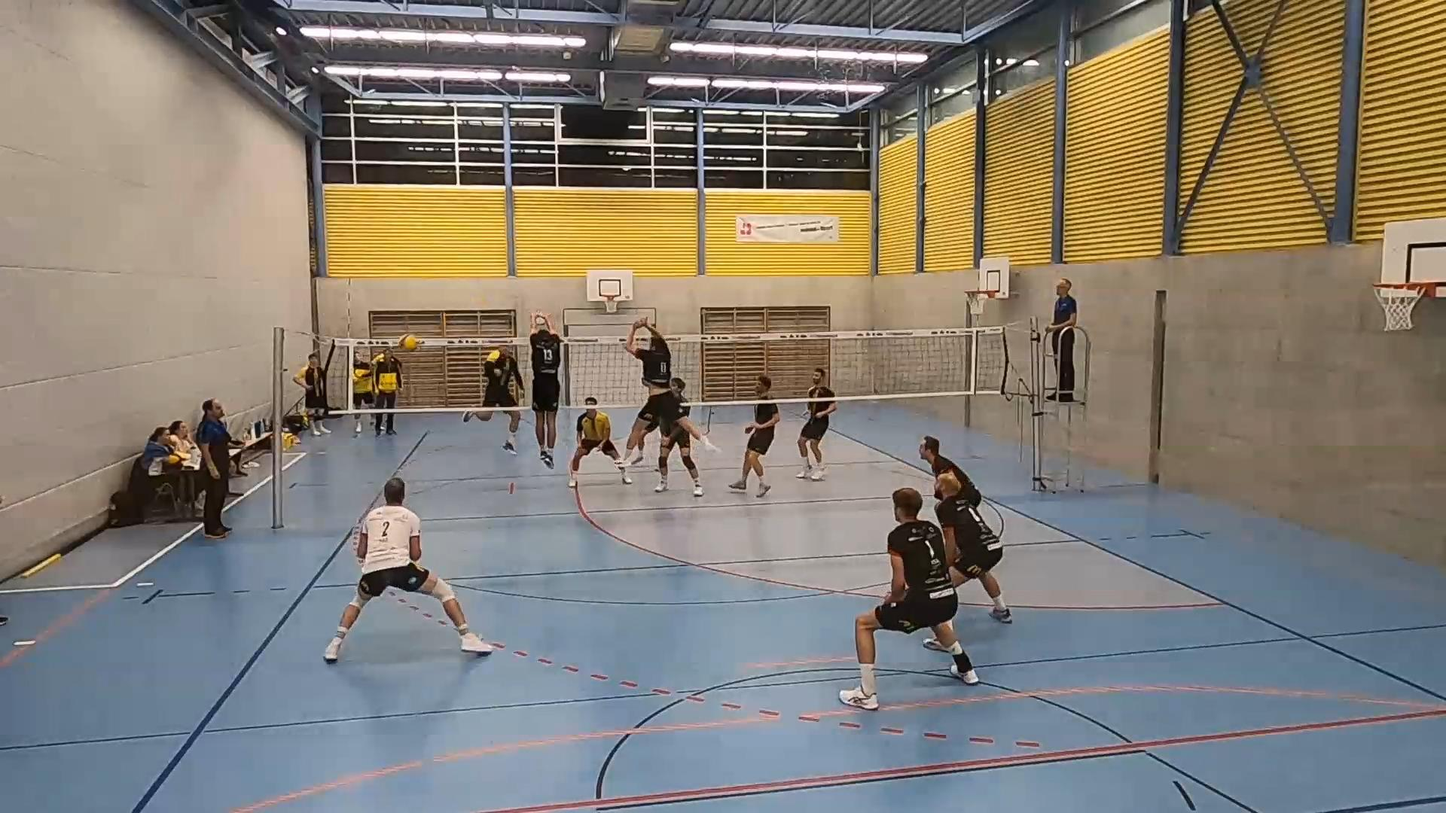attacco: (457, 329, 520, 458)
muro: (620, 314, 721, 468), (525, 307, 575, 472)
